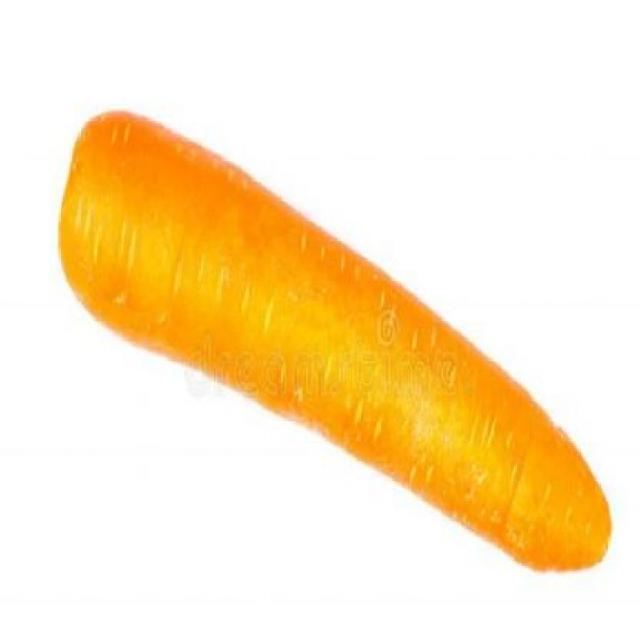carrot: (41, 91, 630, 597)
